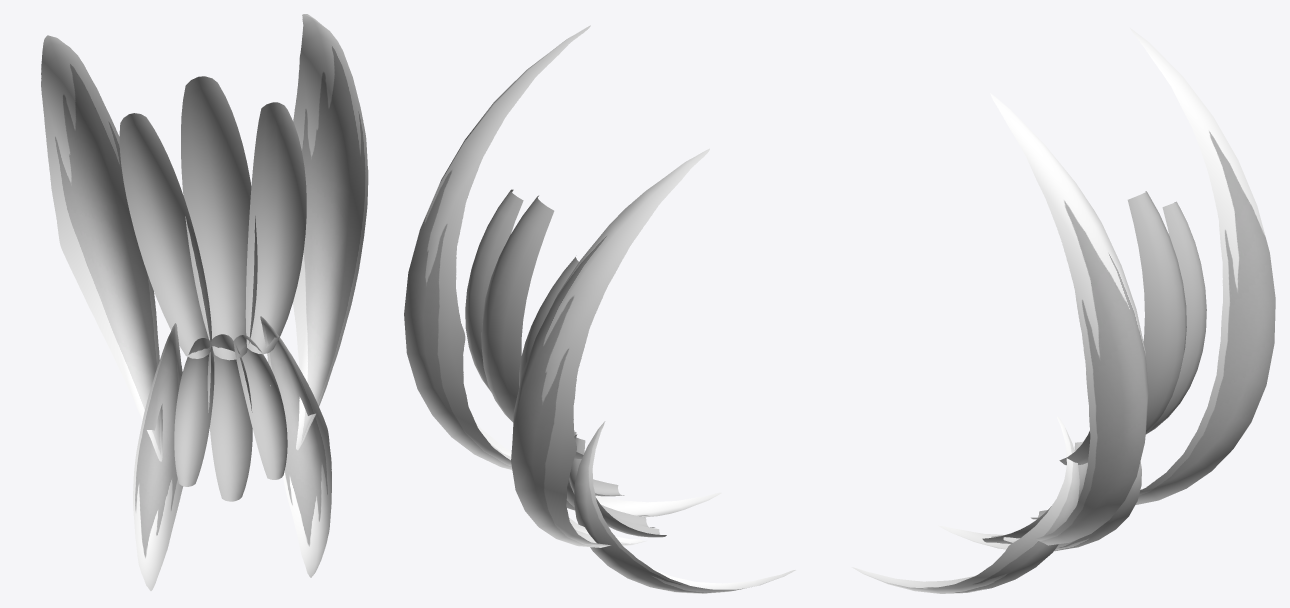
File: fx_m10202_skill01.fbx
3 renders of one model, left to right at view 1: azimuth 30°, elevation 25°; view 2: azimuth 150°, elevation 25°; view 3: azimuth 270°, elevation 25°, orthographic.
Visible parts, largest first — view 1: trail_alpha_out, trail_alpha, trail_bottom_out_alpha, trail_bottom_alpha; view 2: trail_alpha_out, trail_alpha, trail_bottom_out_alpha, trail_bottom_alpha; view 3: trail_alpha_out, trail_alpha, trail_bottom_out_alpha, trail_bottom_alpha.
Part boxes in pixels (x1,y1,x2,y2): trail_alpha_out: [41, 14, 368, 461]; trail_alpha: [119, 76, 306, 360]; trail_bottom_out_alpha: [133, 316, 331, 590]; trail_bottom_alpha: [174, 334, 287, 501]; trail_alpha_out: [404, 25, 709, 547]; trail_alpha: [465, 189, 583, 458]; trail_bottom_out_alpha: [566, 421, 795, 593]; trail_bottom_alpha: [566, 431, 666, 537]; trail_alpha_out: [990, 28, 1275, 545]; trail_alpha: [1059, 191, 1206, 465]; trail_bottom_out_alpha: [851, 416, 1141, 593]; trail_bottom_alpha: [982, 441, 1087, 543].
Size of the model in its own units: 353 by 529 by 392.
